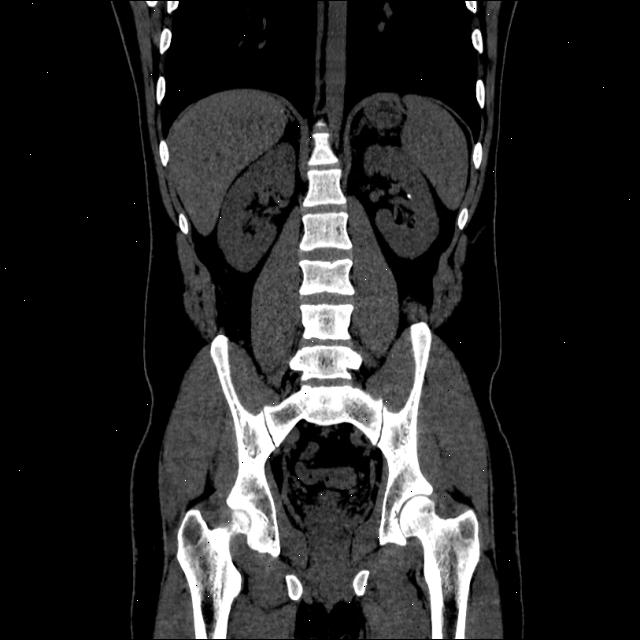kidneystone: (409, 189, 412, 200)
